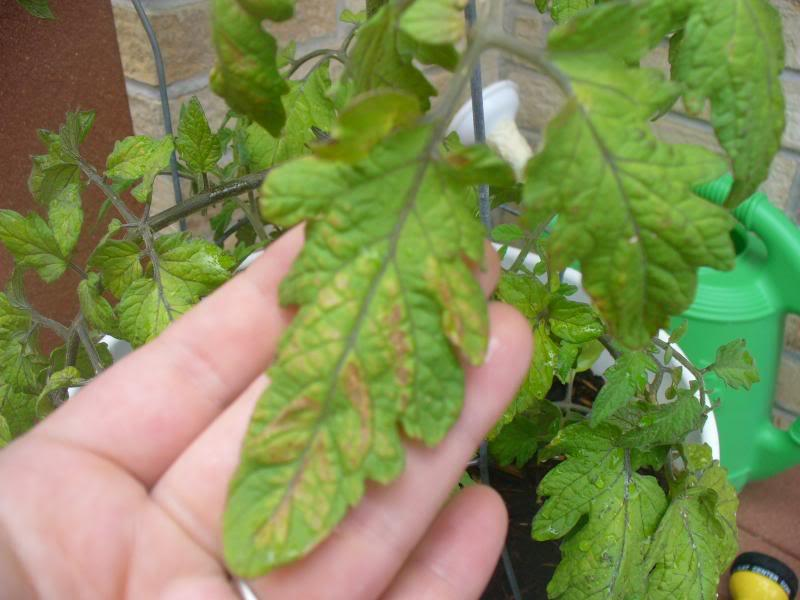Tomato leaf late blight: (203, 89, 501, 583), (507, 25, 699, 365)
